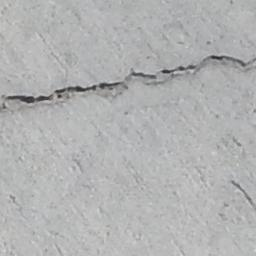Horizontal Settlement Crack: (0, 52, 256, 117)
